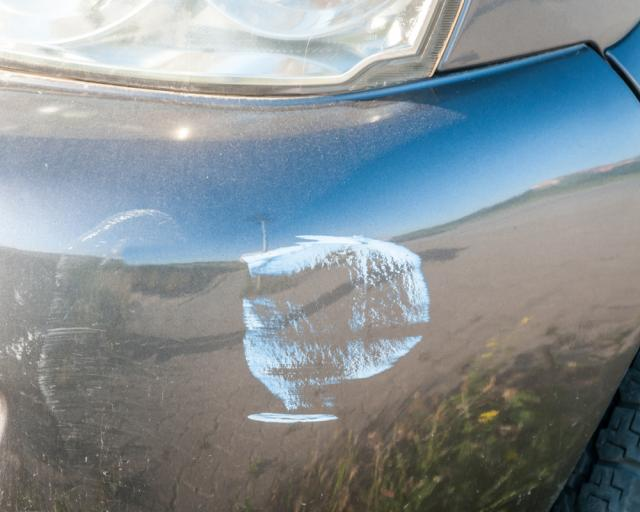scratch: (237, 228, 437, 429), (36, 206, 180, 437)
